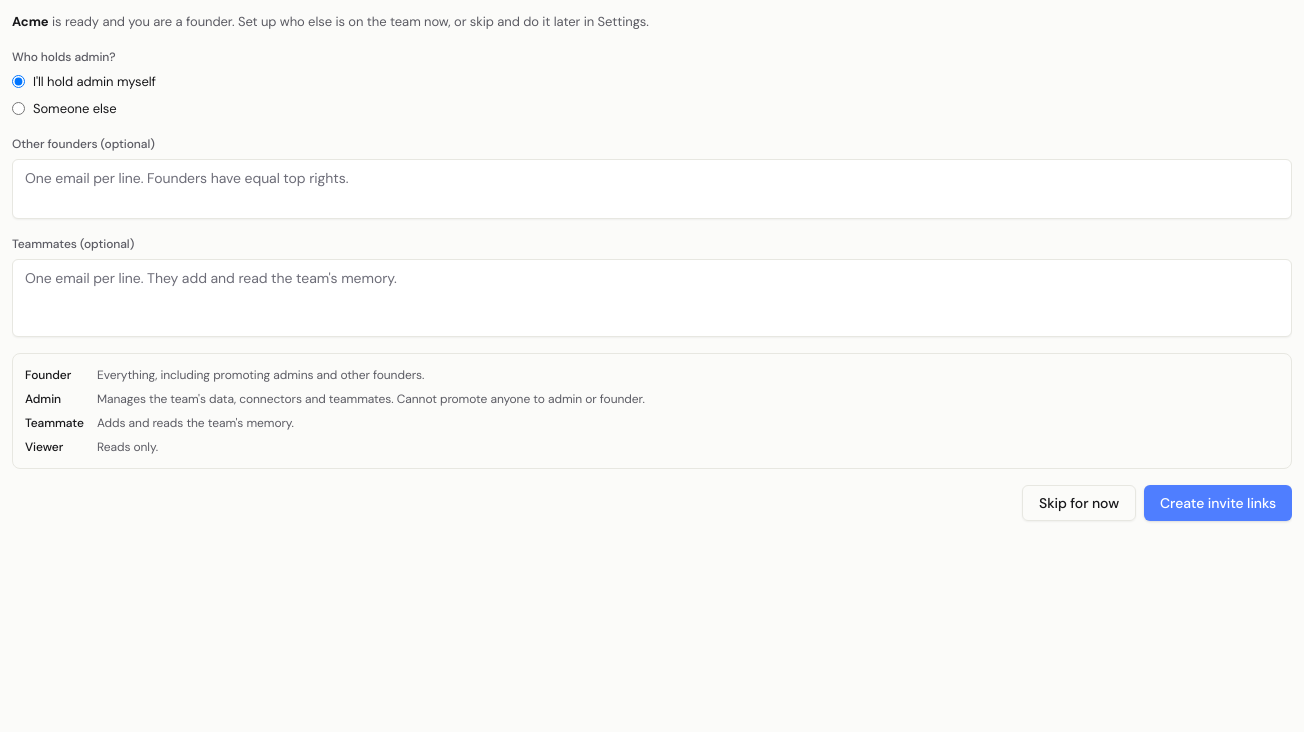
it: team setup step › one failure is shown by name and does not hide the links that worked
Type "ok@x.co bad@x.co" into the text box with test id "setup-teammates". click: (652, 298)
box: [12,258,1292,336]
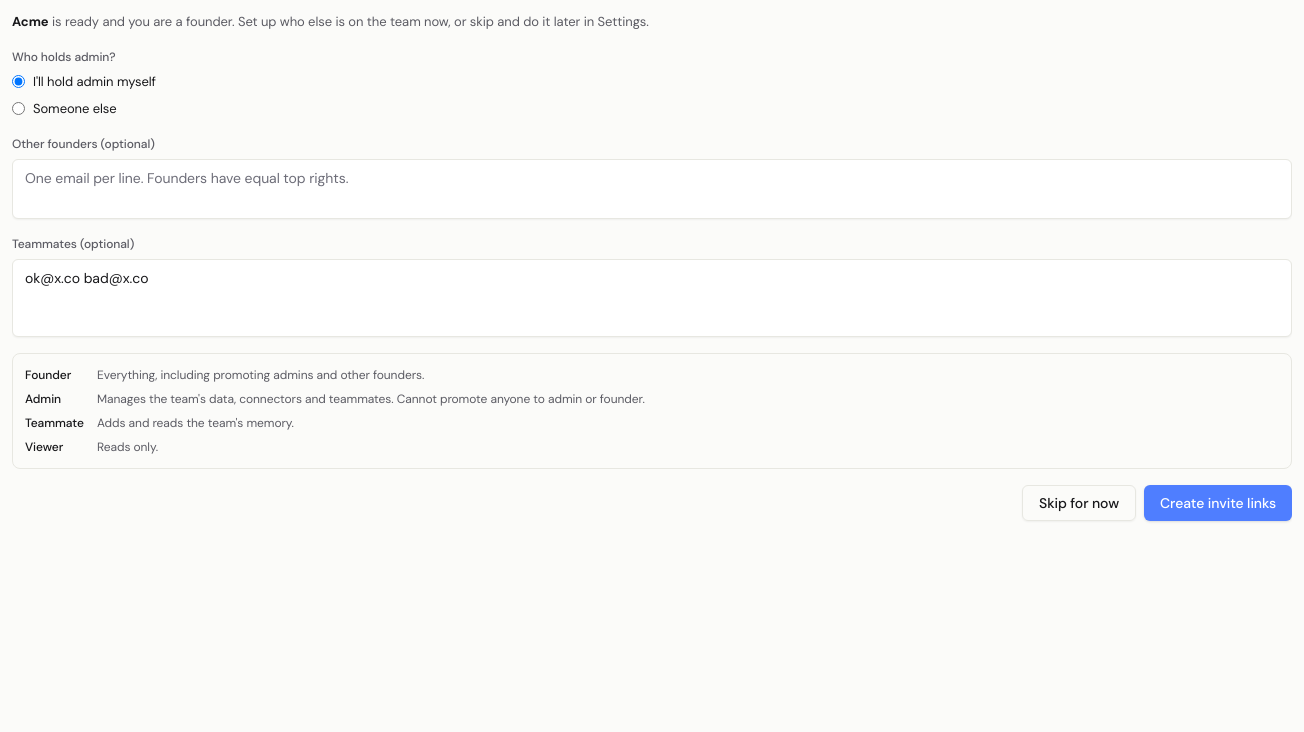
Click the button with test id "team-setup-submit". click: (1218, 502)
box: [1144,484,1292,520]
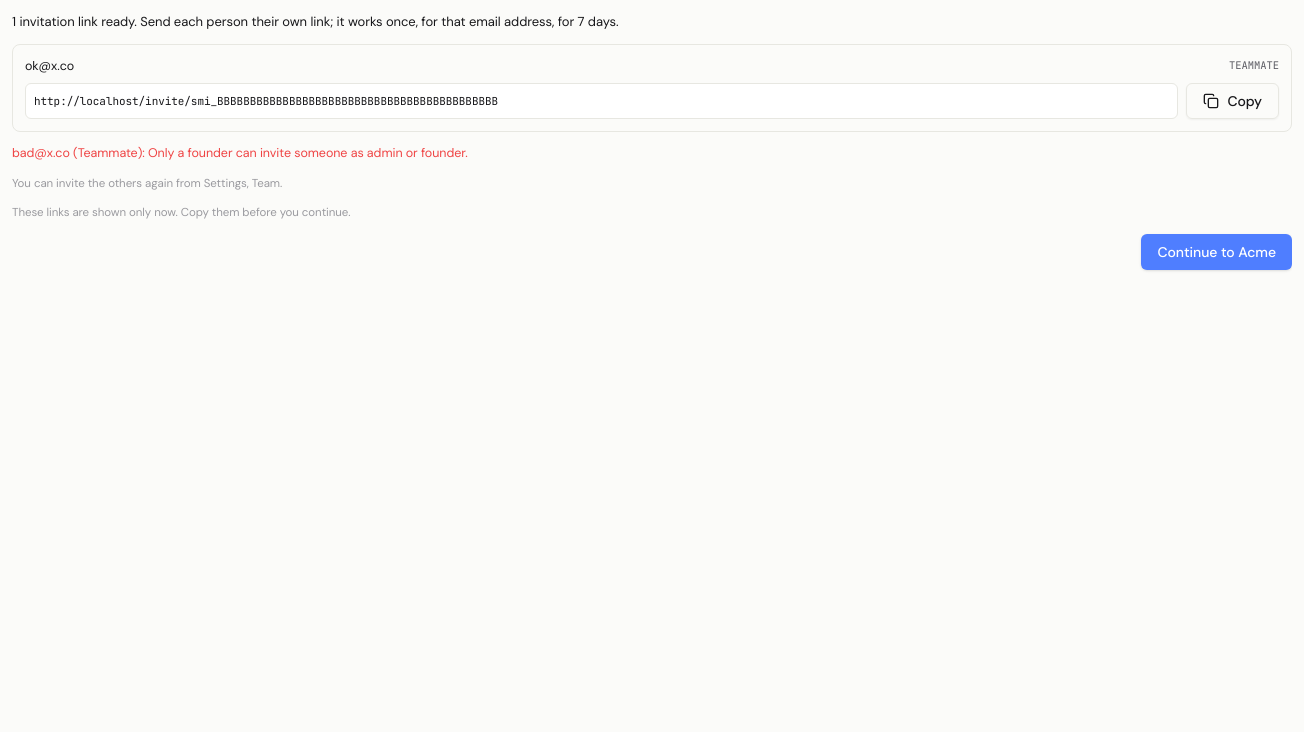
Result: the element with test id "team-setup-results" is shown at [12,12,1292,270]
Result: the number of elements with test id "invite-link" is 1 at [12,44,1292,132]
Result: the message with test id "team-setup-failure" reads "bad@x.co (Teammate): Only a founder can invite someone as admin or founder." at [12,145,468,161]
